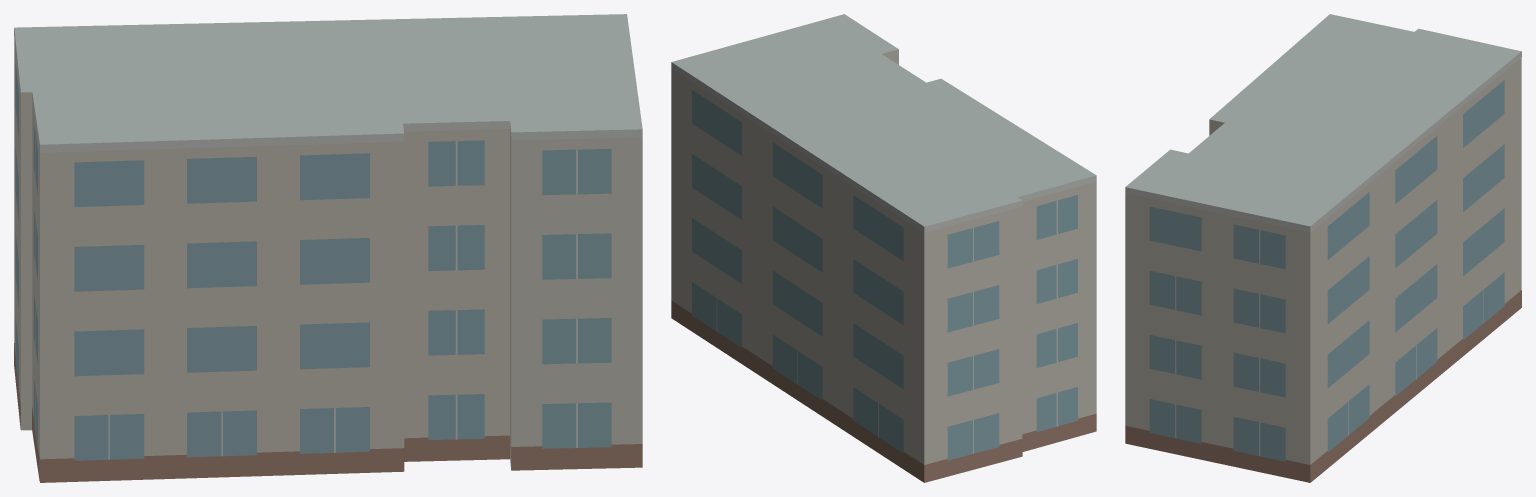
File: survey-upis-32882537.glb
3 renders of one model, left to right at view 1: azimuth 30°, elevation 25°; view 2: azimuth 150°, elevation 25°; view 3: azimuth 270°, elevation 25°, orthographic. The views are drawn at different scales.
Parts seen in each view (by area): view 1: survey-upis-32882537.tmp; view 2: survey-upis-32882537.tmp; view 3: survey-upis-32882537.tmp.
Boxes of the visible parts, x1=… form: survey-upis-32882537.tmp: x1=14, y1=14, x2=642, y2=482; survey-upis-32882537.tmp: x1=671, y1=14, x2=1096, y2=482; survey-upis-32882537.tmp: x1=1125, y1=14, x2=1521, y2=482.
Size of the model in its own units: 18.13 by 10.2 by 14.3.
